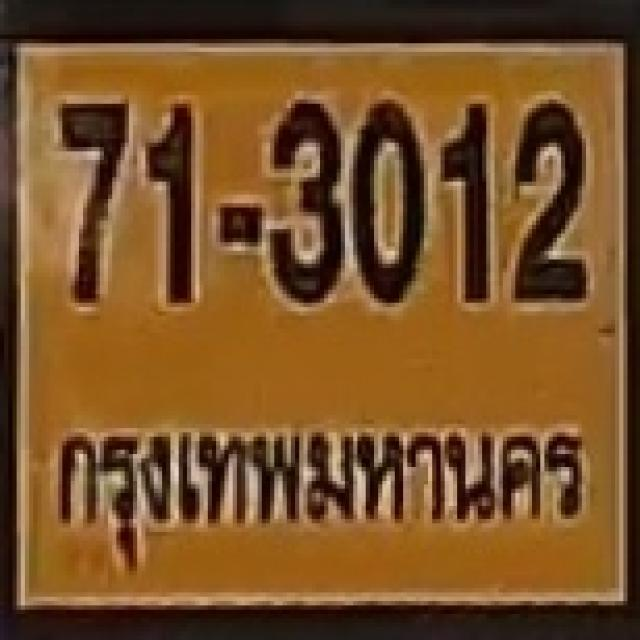0: (349, 95, 420, 298)
1: (436, 100, 486, 298), (144, 101, 194, 288), (146, 102, 191, 300)
2: (509, 102, 584, 296)
3: (264, 95, 339, 298)
7: (54, 100, 125, 298)
BKK: (44, 410, 601, 571)
